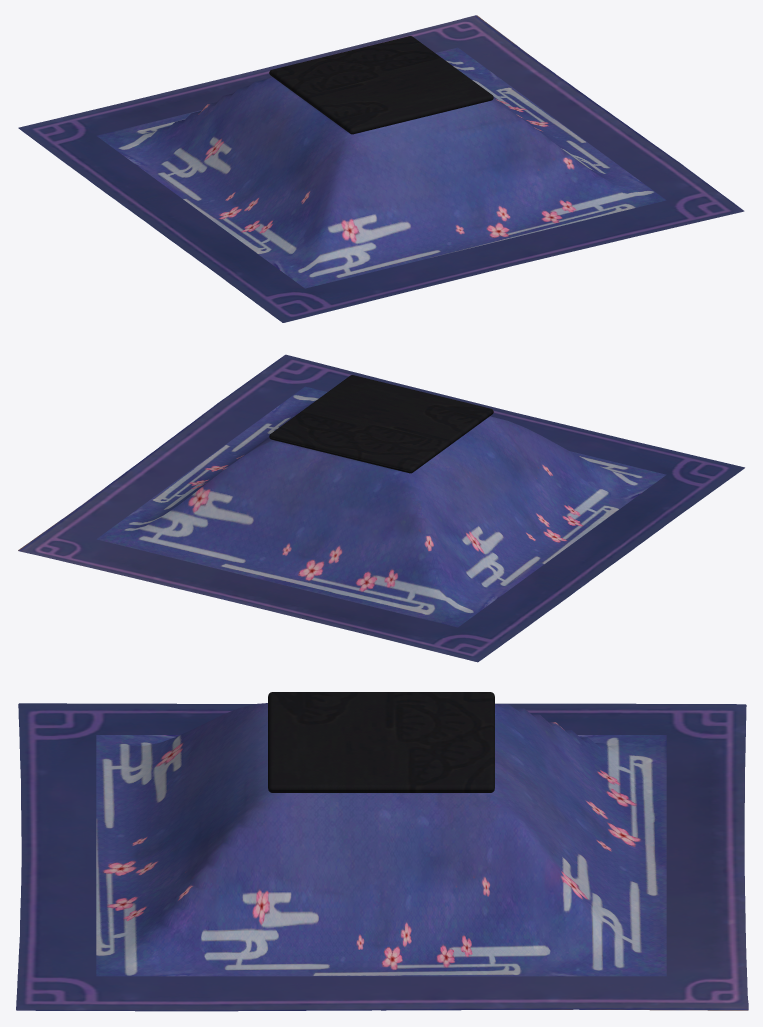
The model's file is Kotatsu.obj.
3 views of the same model, one above another, from view 1: azimuth 30°, elevation 25°; view 2: azimuth 150°, elevation 25°; view 3: azimuth 270°, elevation 25° (orthographic). The views are drawn at different scales.
Visible parts, largest first — view 1: Plane.001; view 2: Plane.001; view 3: Plane.001.
Boxes of the visible parts, x1,y1,x2,y2 form: Plane.001: [18, 15, 744, 322]; Plane.001: [18, 354, 744, 662]; Plane.001: [16, 692, 748, 1011].
Size of the model in its own units: 5.96 by 1.07 by 5.96.
